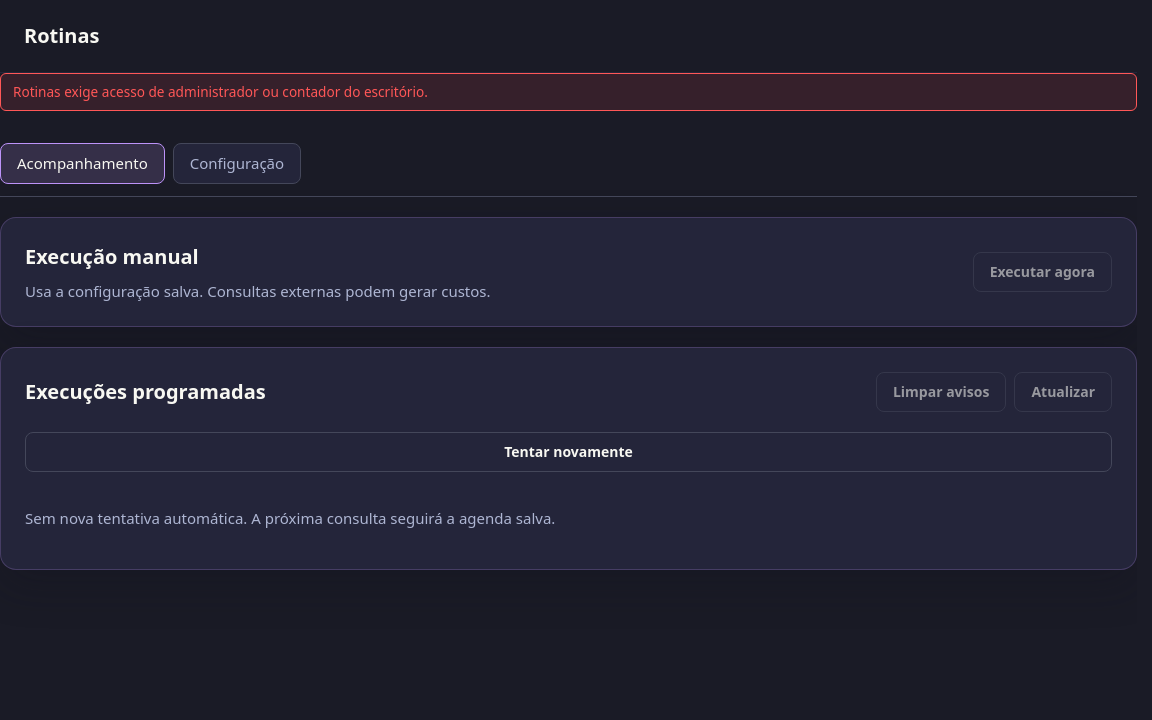
Scenario: recusa de acesso não anuncia lista vazia e impede salvar sem carga
Expected: the message shows "administrador ou contador", [13, 82, 428, 101]
Click the tab "Configuração". click: (237, 164)
box: [173, 143, 301, 184]
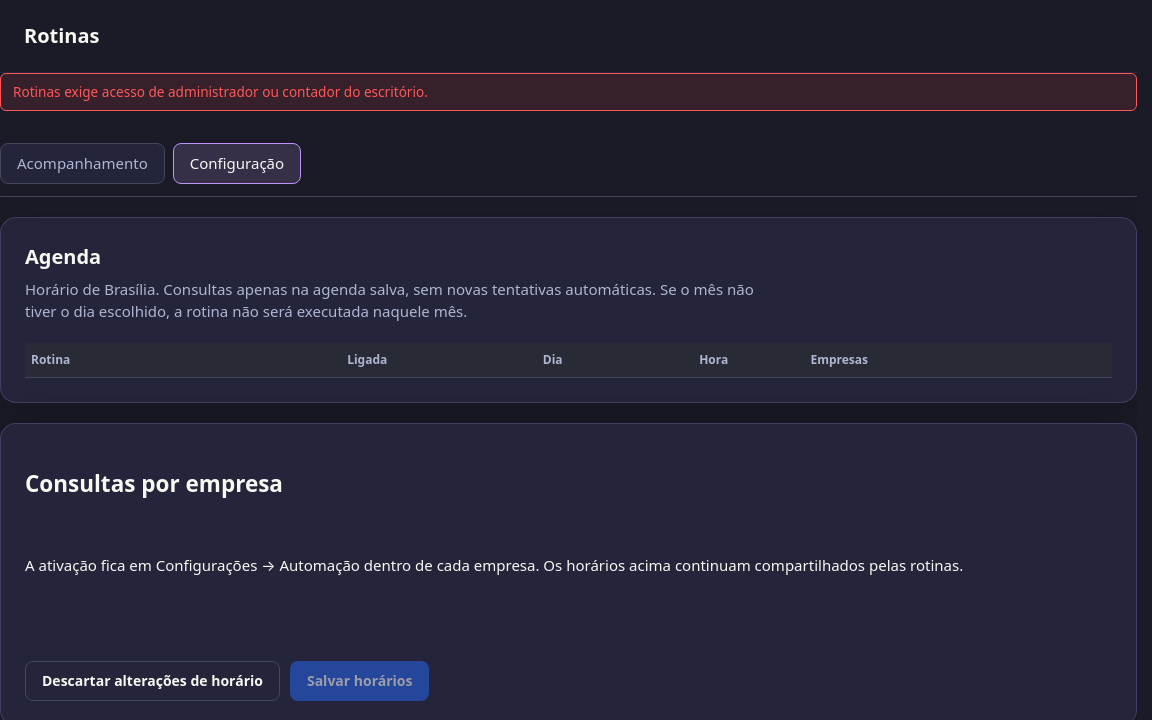
Now the button "Salvar horários" is disabled, box [290, 662, 429, 702]
